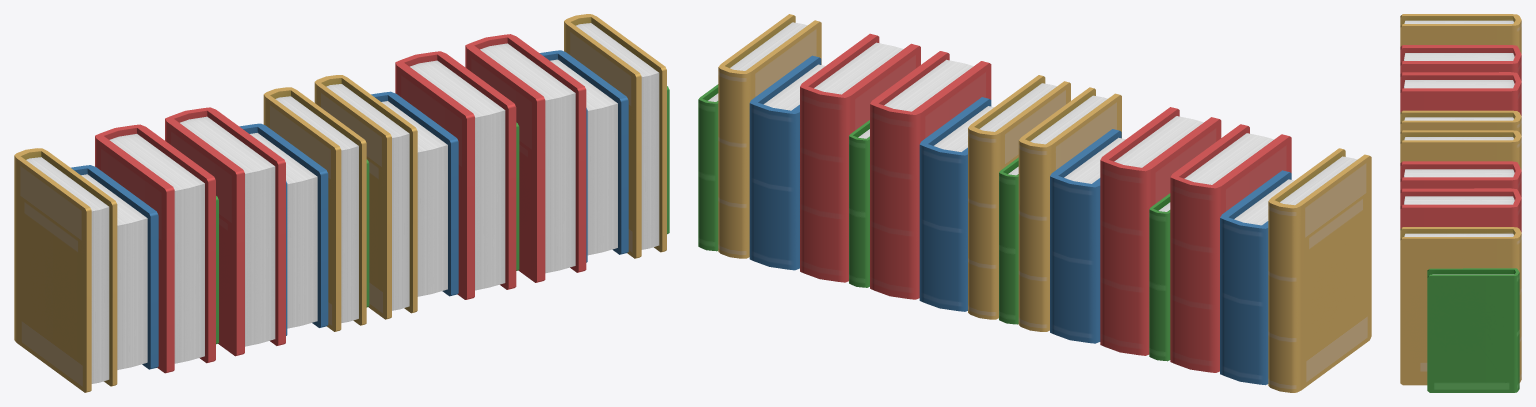
Rendered from BoekenSetUp.fbx.
3 renders of one model, left to right at view 1: azimuth 30°, elevation 25°; view 2: azimuth 150°, elevation 25°; view 3: azimuth 270°, elevation 25°, orthographic. The views are drawn at different scales.
Visible parts, largest first — view 1: Book_13, Book_1, Book_17, Book_8, Book_15, Book_11, Book_18, Book_3, Book_2, Book_19, Book_10, Book_14 (+2 smaller); view 2: Book_13, Book_8, Book_15, Book_17, Book_1, Book_3, Book_18, Book_19, Book_2, Book_11, Book_14, Book_10 (+4 smaller); view 3: Book_4, Book_3, Book_1, Book_17, Book_11, Book_13, Book_8, Book_15, Book_18.
Boxes of the visible parts, x1,y1,x2,y2 form: Book_13: (14,148,117,392); Book_1: (465,34,586,282); Book_17: (165,107,285,356); Book_8: (395,51,516,299); Book_15: (95,124,215,373); Book_11: (314,75,417,319); Book_18: (263,87,366,331); Book_3: (564,14,666,258); Book_2: (539,50,628,262); Book_19: (239,123,328,335); Book_10: (371,91,458,296); Book_14: (71,165,158,369); Book_13: (1268,148,1371,392); Book_8: (870,51,991,299); Book_15: (1170,124,1291,372); Book_17: (1100,107,1221,355); Book_1: (800,33,920,282); Book_3: (718,14,821,258); Book_18: (1018,87,1121,331); Book_19: (1050,129,1125,343); Book_2: (749,55,825,270); Book_11: (968,75,1070,319); Book_14: (1220,170,1294,385); Book_10: (919,97,993,311); Book_4: (1427,268,1519,392); Book_3: (1400,227,1521,385); Book_1: (1400,188,1521,232); Book_17: (1400,72,1521,115); Book_11: (1400,130,1521,170); Book_13: (1400,14,1521,53); Book_8: (1400,161,1521,197); Book_15: (1400,45,1521,80); Book_18: (1400,110,1521,135).
Bounding box in the file's own units: 104 × 30.49 × 22.88.
Materials: 4 (4 with a texture image).
